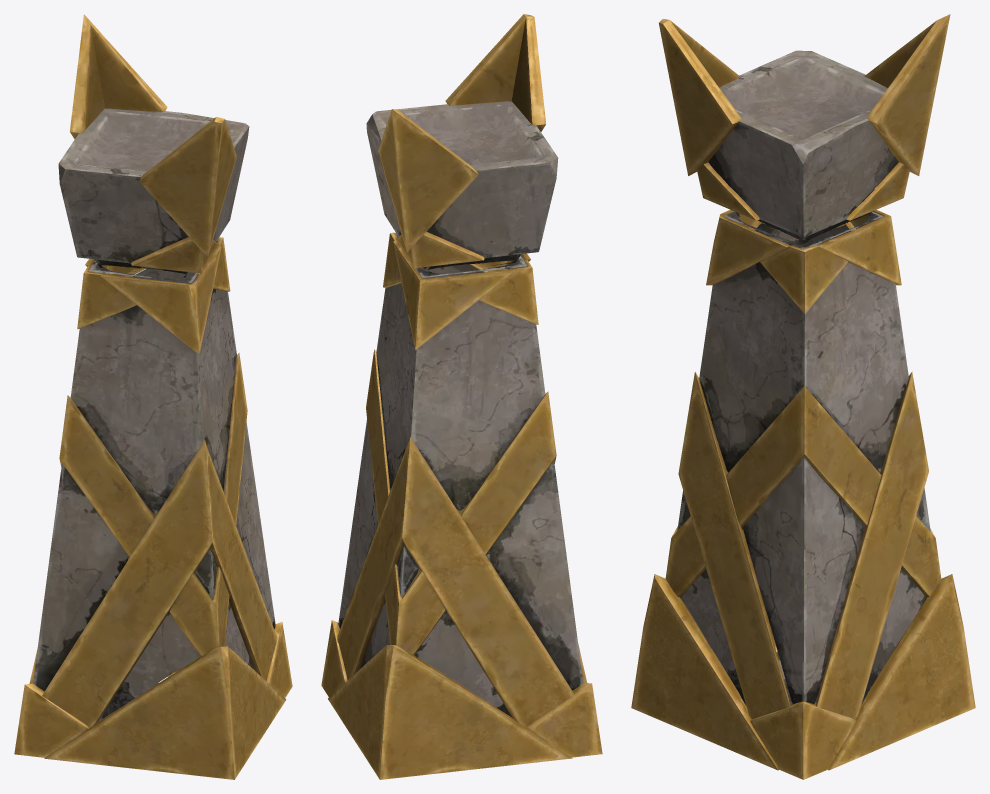
3 views of the same model, side by side, from view 1: azimuth 30°, elevation 25°; view 2: azimuth 150°, elevation 25°; view 3: azimuth 270°, elevation 25° (orthographic). The views are drawn at different scales.
Visible parts, largest first — view 1: SM_Light_Source_02_LOD0; view 2: SM_Light_Source_02_LOD0; view 3: SM_Light_Source_02_LOD0.
Part boxes in pixels (x1=…): SM_Light_Source_02_LOD0: x1=14, y1=14, x2=292, y2=779; SM_Light_Source_02_LOD0: x1=321, y1=14, x2=602, y2=779; SM_Light_Source_02_LOD0: x1=631, y1=14, x2=975, y2=779.
Size of the model in its own units: 0.4577 by 1.03 by 0.4633.
Materials: 1 (1 with a texture image).
